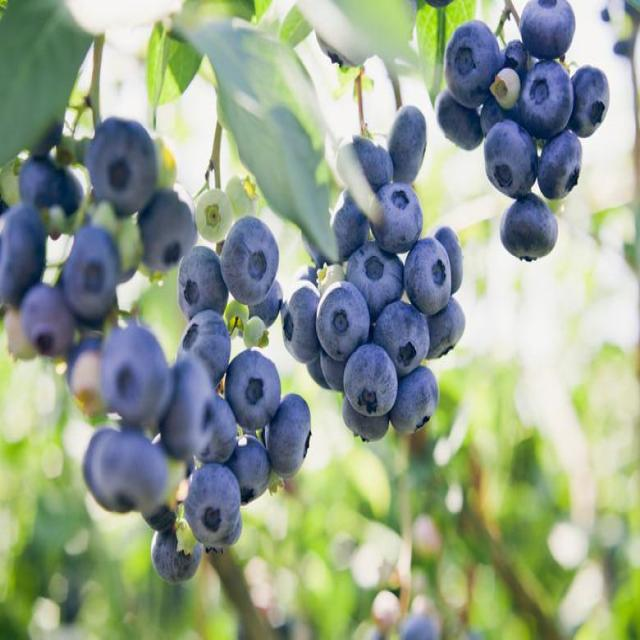BlueBerry - v1: (100, 319, 173, 433), (86, 424, 171, 520), (82, 108, 156, 218), (133, 176, 202, 287), (161, 342, 221, 465), (60, 218, 123, 324), (220, 344, 287, 440), (478, 110, 542, 206), (177, 453, 244, 544), (342, 232, 405, 324), (441, 15, 503, 108), (222, 208, 282, 304), (11, 274, 76, 362), (314, 274, 374, 367), (366, 175, 429, 263), (340, 335, 403, 421), (172, 241, 232, 331), (270, 386, 321, 490), (372, 293, 435, 375), (518, 52, 578, 138), (532, 116, 589, 206), (0, 205, 47, 312), (498, 190, 560, 270), (382, 97, 431, 193), (177, 309, 235, 390), (280, 270, 326, 372), (390, 354, 442, 444), (406, 230, 456, 321), (15, 142, 71, 222), (147, 520, 207, 594), (512, 0, 578, 64), (433, 85, 484, 166), (572, 53, 615, 149), (326, 183, 375, 266), (229, 430, 276, 514), (332, 392, 393, 456), (350, 128, 400, 199), (425, 288, 471, 363), (191, 175, 236, 251), (435, 218, 473, 298), (0, 305, 42, 373), (69, 350, 107, 416), (245, 271, 283, 331), (490, 58, 521, 112)
